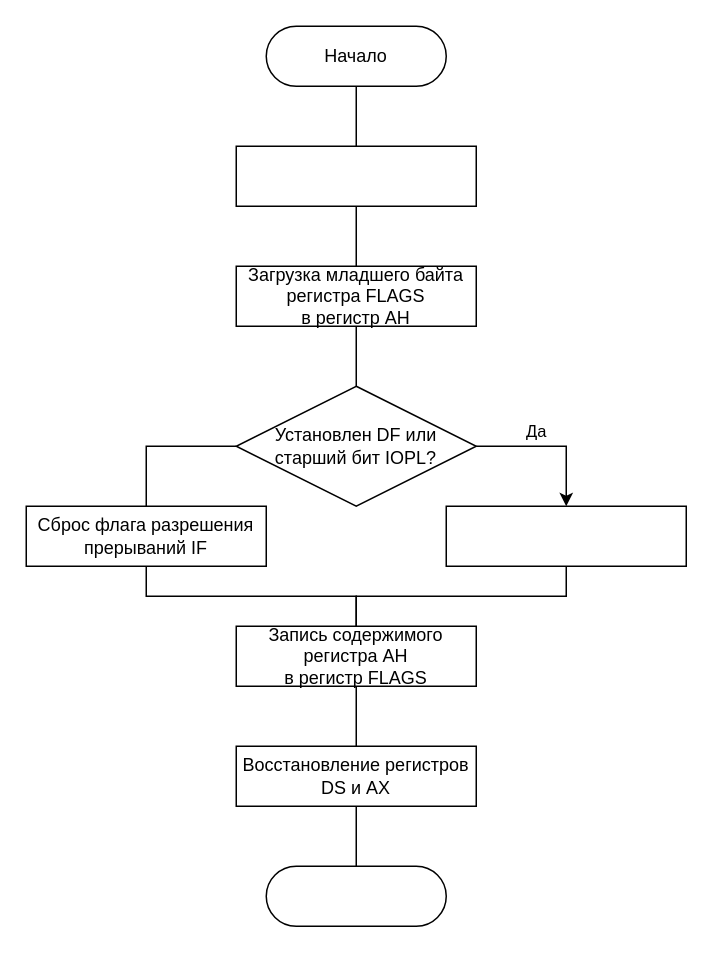
The diagram is 713 pixels wide and 953 high, and some of its shapes have lost their labels. Each missing label, with the centre of its shape:
cli: the point at 565,535
Конец: the point at 355,895
Сохранение содержимого регистров DS и AX: the point at 355,175
